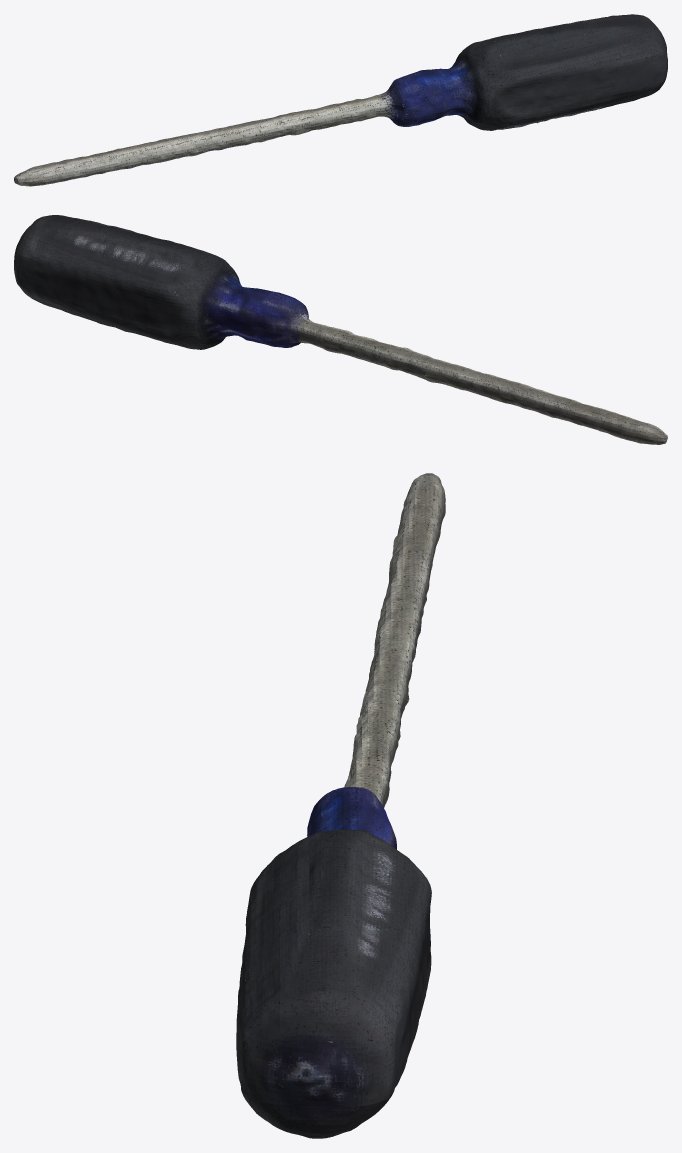
3 views of the same model, one above another, from view 1: azimuth 30°, elevation 25°; view 2: azimuth 150°, elevation 25°; view 3: azimuth 270°, elevation 25° (orthographic). The views are drawn at different scales.
Size of the model in its own units: 0.1945 by 0.0269 by 0.0285.
Materials: 1 (1 with a texture image).
